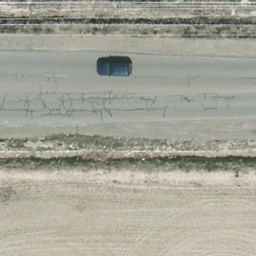car: (96, 59, 133, 77)
